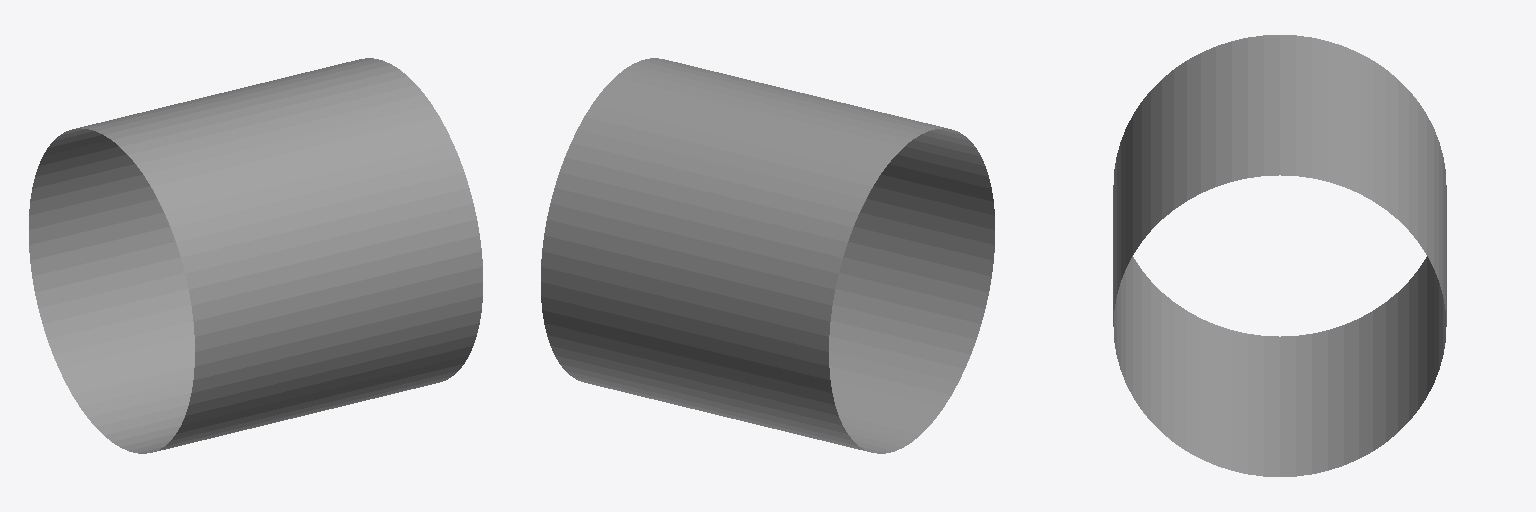
Rendered from tunnel.obj.
3 views of the same model, side by side, from view 1: azimuth 30°, elevation 25°; view 2: azimuth 150°, elevation 25°; view 3: azimuth 270°, elevation 25° (orthographic).
Size of the model in its own units: 2 by 2 by 2.